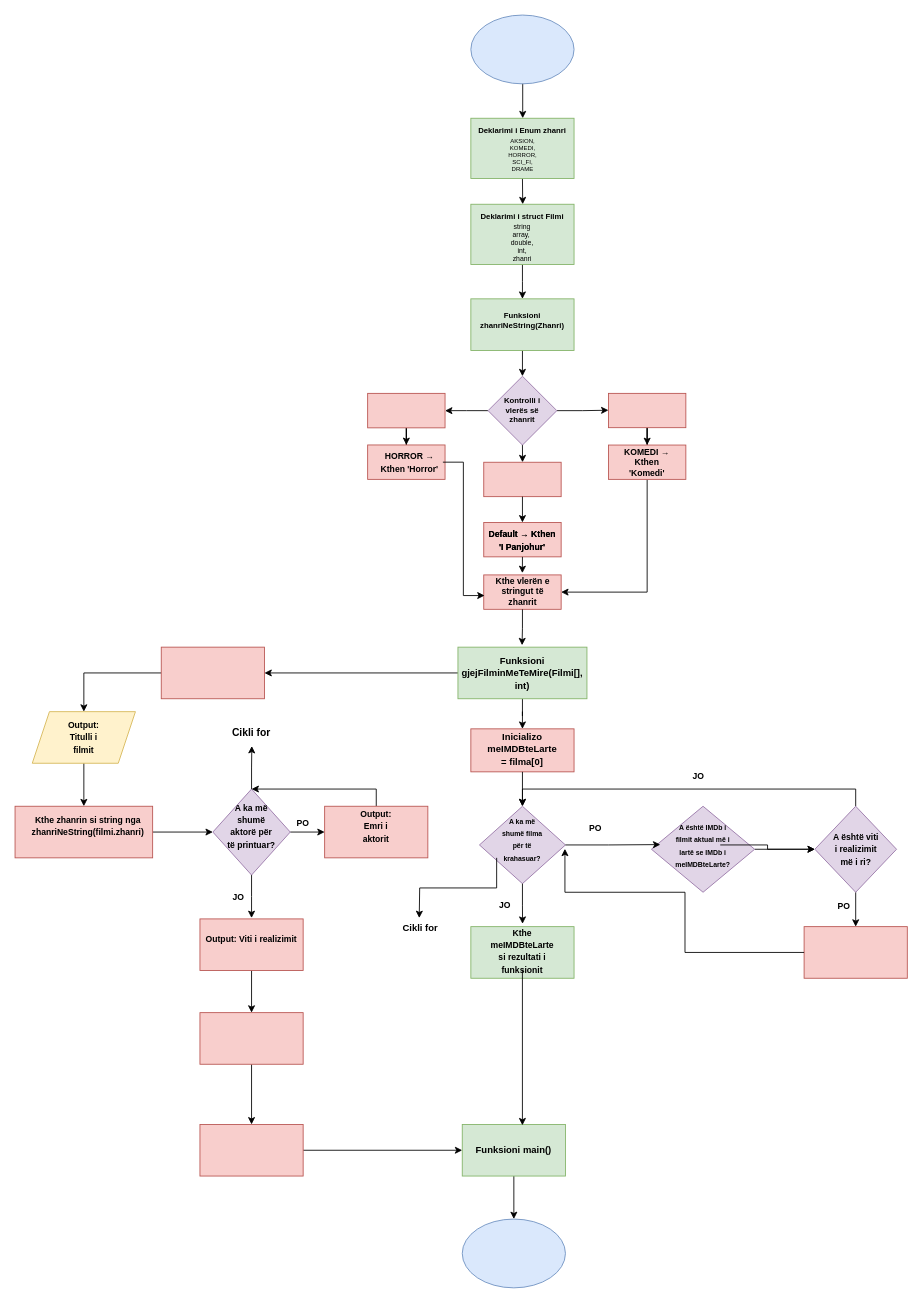
The diagram is 923 pixels wide and 1303 high, and some of its shapes have lost their labels. The shapes that lost their labels are listed below. From the top down, each one's box as (x1, y1, x2, y2) in pixels, then its label:
(470, 14, 574, 84): Fillimi
(367, 393, 445, 428): DRAME→ Kthen 'Dramë'
(608, 393, 686, 428): AKSION → Kthen 'Aksion'
(483, 461, 561, 497): SCI_FI → Kthen 'Sci-Fi'
(160, 646, 264, 699): Funksioni shfaqRezultatin(Filmi)
(803, 926, 907, 978): Përditëso meIMDBteLarte = filma[i]
(199, 1012, 303, 1064): Output: Përshkrimi i filmit
(199, 1124, 303, 1176): Output: Vlerësimi IMDb
(461, 1218, 565, 1288): Fundi
